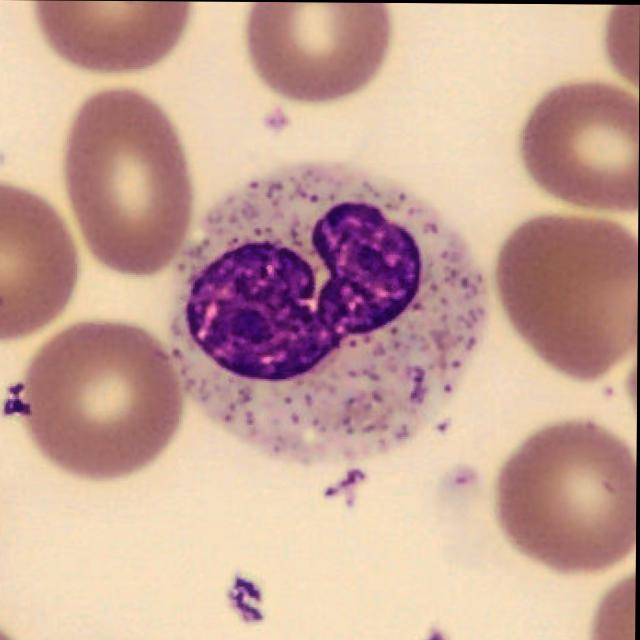Neutrofilo segmentado: (167, 160, 488, 480)
